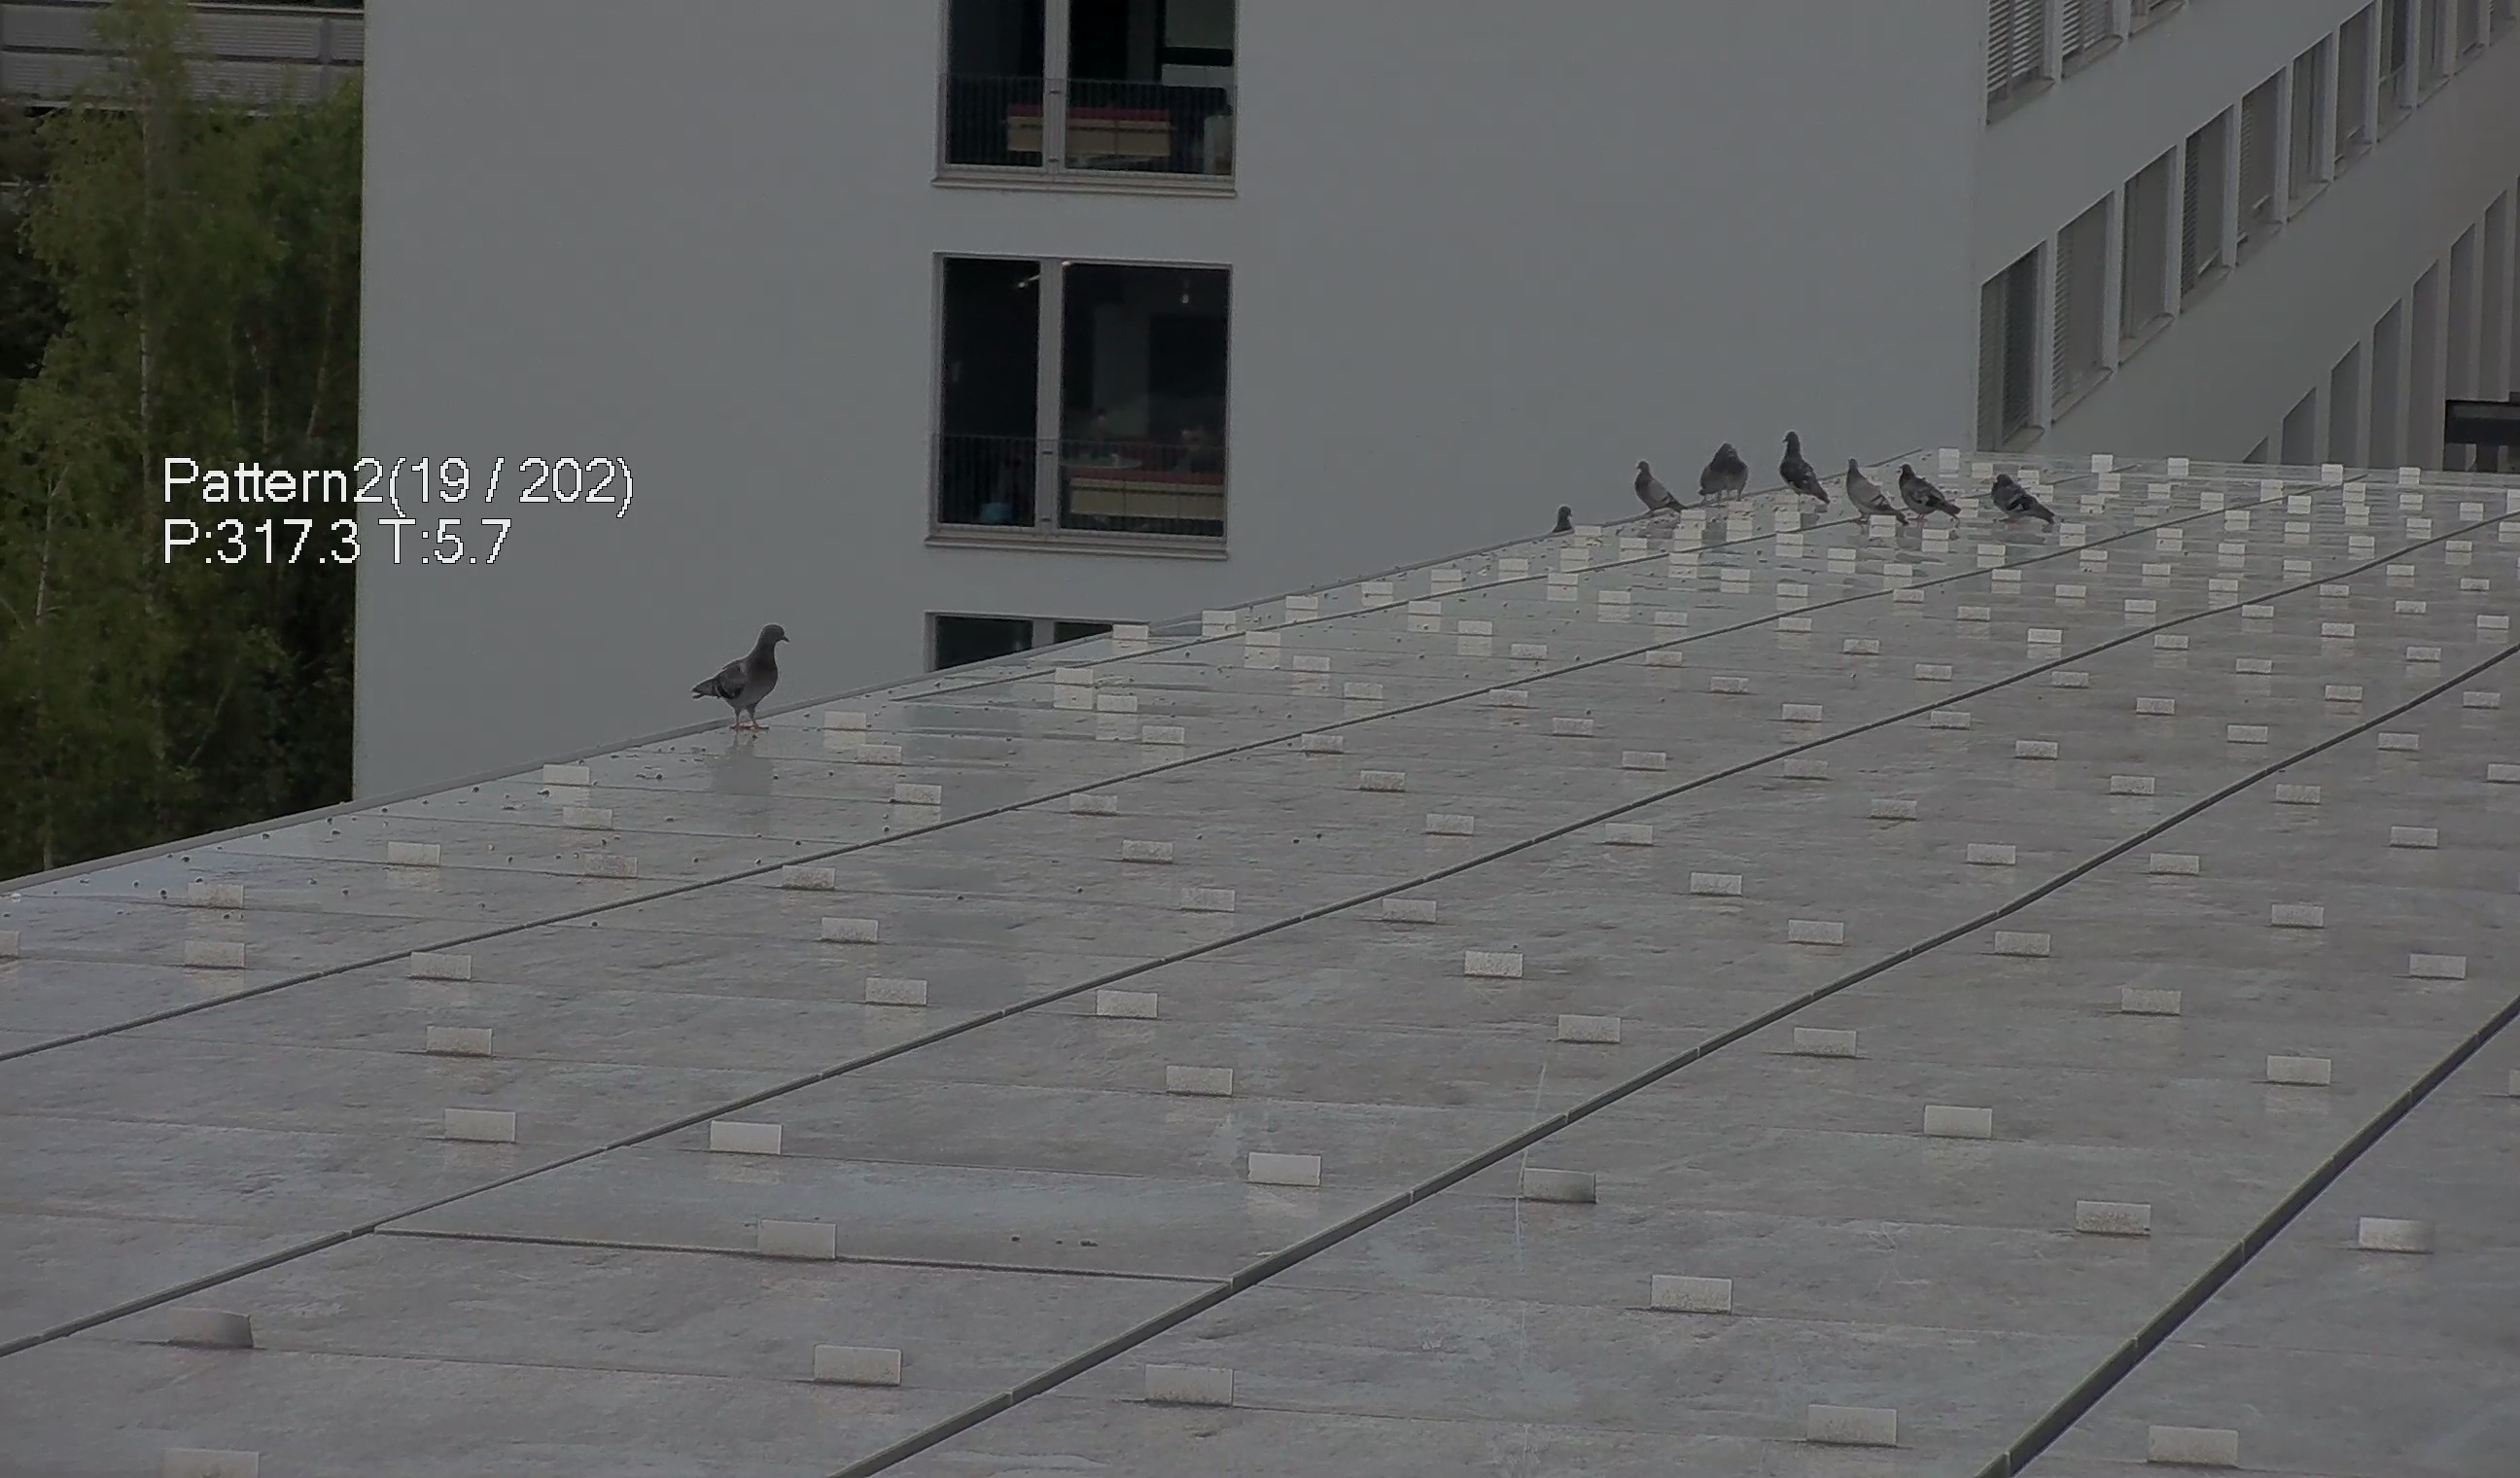Pigeon: (674, 609, 788, 735), (1987, 454, 2070, 538), (1839, 457, 1910, 537), (1896, 449, 1964, 528), (1776, 428, 1834, 505), (1632, 452, 1686, 519), (1699, 436, 1736, 505), (1553, 500, 1586, 538)
